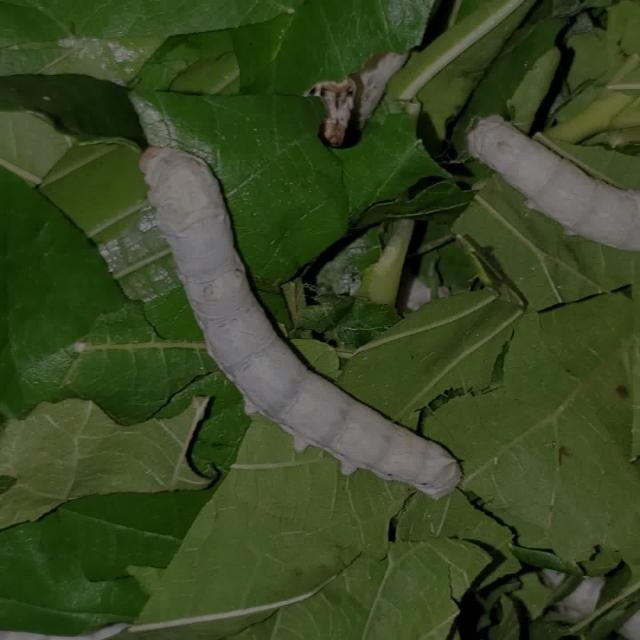Healthy: (104, 100, 469, 490)
